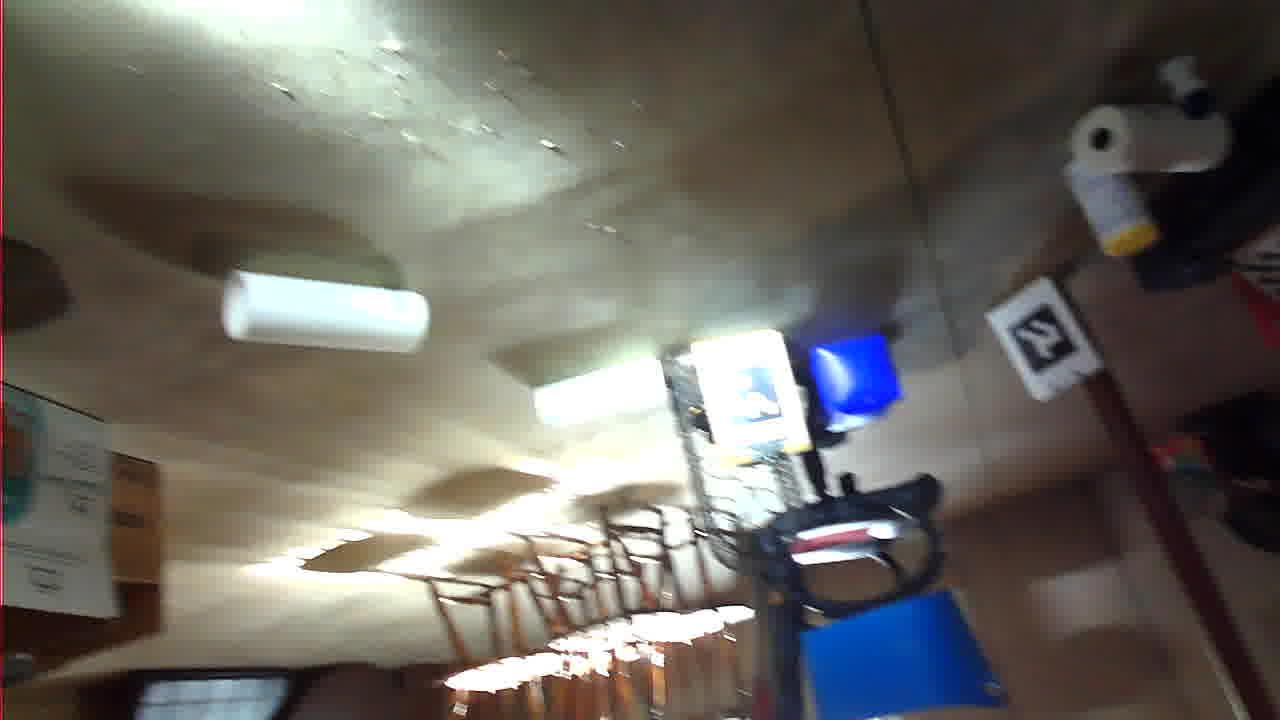coral: (850, 364, 1057, 449), (621, 294, 745, 352)
